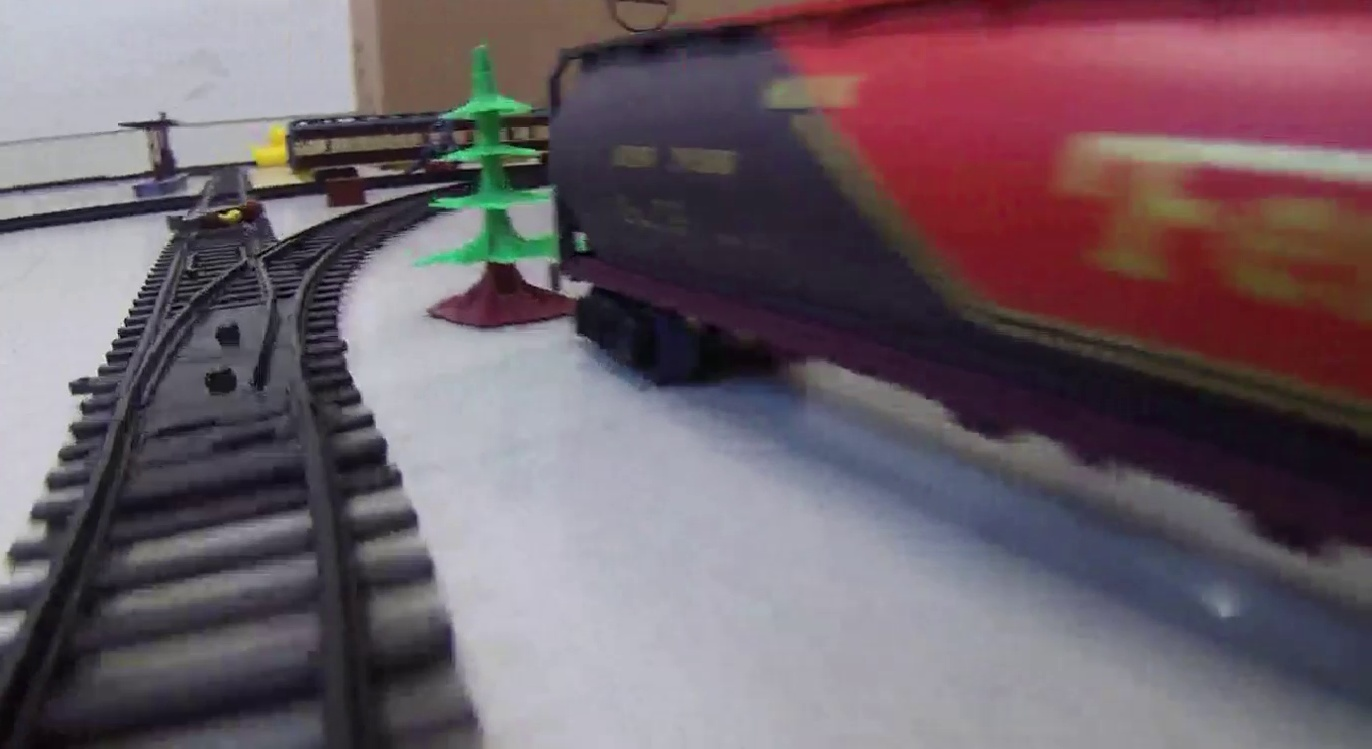tree: (417, 42, 554, 327)
